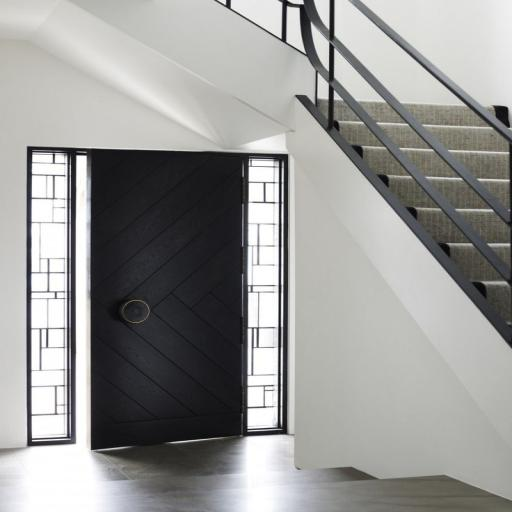Door: (27, 146, 290, 450), (88, 148, 247, 450)
Stairs: (26, 0, 511, 499), (315, 98, 511, 324)
